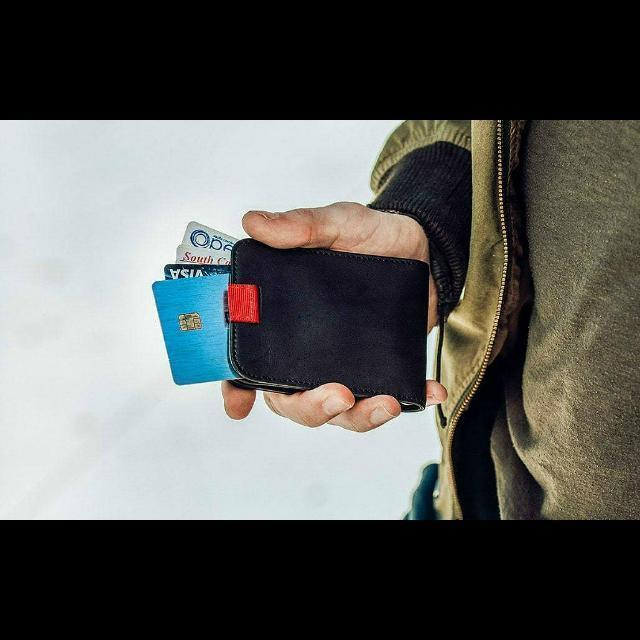wallet: (233, 236, 427, 412)
